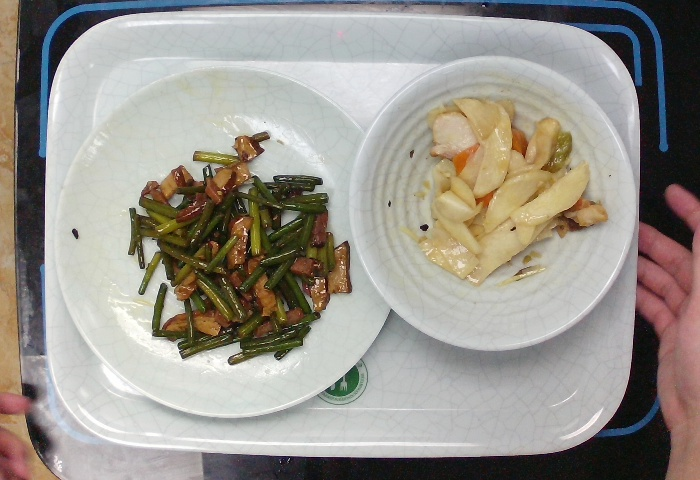JYsf-Da_Yuan_Pan: (49, 63, 394, 423)
JYsf-Xiao_Tang_Wan: (344, 51, 642, 357)
